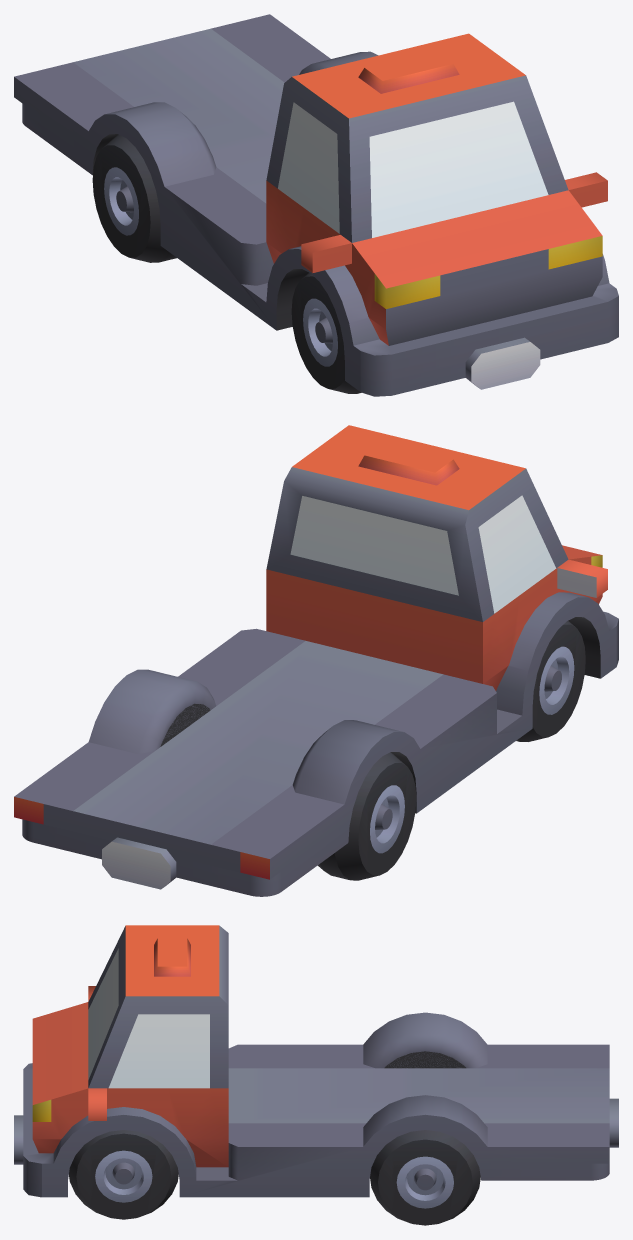
Rendered from delivery-flat.glb.
3 renders of one model, top to bottom at view 1: azimuth 30°, elevation 25°; view 2: azimuth 150°, elevation 25°; view 3: azimuth 270°, elevation 25°, orthographic. The views are drawn at different scales.
Visible parts, largest first — view 1: wheel-back-left; view 2: wheel-back-left; view 3: wheel-back-left.
Part boxes in pixels (x1=…): wheel-back-left: x1=14, y1=14, x2=618, y2=396; wheel-back-left: x1=14, y1=425, x2=618, y2=896; wheel-back-left: x1=14, y1=925, x2=618, y2=1225.
Size of the model in its own units: 1.5 by 1.35 by 3.25.
Materials: 1 (1 with a texture image).
